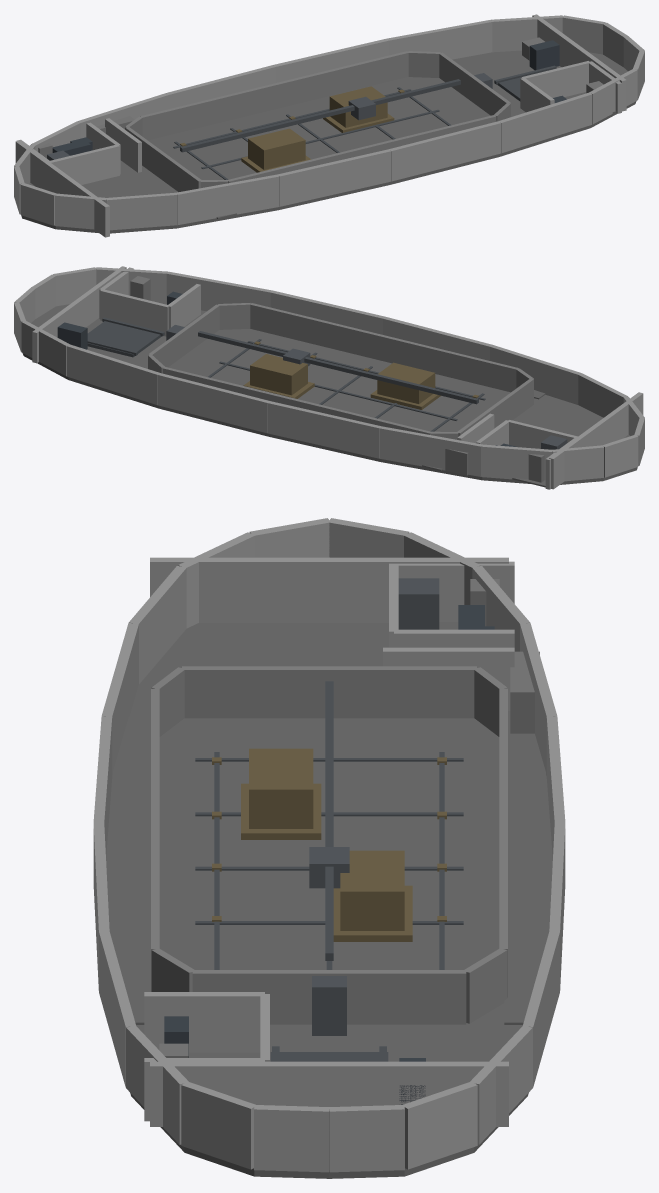
The model's file is STW-T01_Deck2_CARGO_OPS_1to1.obj.
3 renders of one model, top to bottom at view 1: azimuth 30°, elevation 25°; view 2: azimuth 150°, elevation 25°; view 3: azimuth 270°, elevation 25°, orthographic. The views are drawn at different scales.
Visible parts, largest first — view 1: ROOM_01_MAIN_CARGO_HOLD_Floor, ROOM_01_MAIN_CARGO_HOLD_Wall_01, STRUCTURE_Deck2Slab, STRUCTURE_OuterBulkhead_15, STRUCTURE_OuterBulkhead_14, STRUCTURE_OuterBulkhead_16, STRUCTURE_OuterBulkhead_13, ROOM_01_MAIN_CARGO_HOLD_Crate, STRUCTURE_OuterBulkhead_06, STRUCTURE_OuterBulkhead_17, STRUCTURE_ForwardPressureBulkhead, ROOM_01_MAIN_CARGO_HOLD_Wall_05 (+29 smaller); view 2: ROOM_01_MAIN_CARGO_HOLD_Floor, ROOM_01_MAIN_CARGO_HOLD_Wall_05, STRUCTURE_Deck2Slab, STRUCTURE_OuterBulkhead_04, STRUCTURE_OuterBulkhead_05, ROOM_01_MAIN_CARGO_HOLD_Crate, STRUCTURE_OuterBulkhead_06, STRUCTURE_OuterBulkhead_03, STRUCTURE_OuterBulkhead_16, STRUCTURE_OuterBulkhead_13, ROOM_01_MAIN_CARGO_HOLD_Wall_01, STRUCTURE_OuterBulkhead_14 (+31 smaller); view 3: ROOM_01_MAIN_CARGO_HOLD_Floor, STRUCTURE_Deck2Slab, STRUCTURE_ServiceLane, ROOM_01_MAIN_CARGO_HOLD_Wall_07, STRUCTURE_ForwardPressureBulkhead, STRUCTURE_AftPressureBulkhead, ROOM_01_MAIN_CARGO_HOLD_Wall_03, ROOM_01_MAIN_CARGO_HOLD_Crate, ROOM_03_STARBOARD_AIRLOCK_Forward, ROOM_01_MAIN_CARGO_HOLD_FloorRail, STRUCTURE_OuterBulkhead_10, STRUCTURE_OuterBulkhead_09 (+34 smaller).
Part boxes in pixels (bbox=[...]): ROOM_01_MAIN_CARGO_HOLD_Floor: bbox=[148, 77, 490, 179]; ROOM_01_MAIN_CARGO_HOLD_Wall_01: bbox=[140, 51, 408, 140]; STRUCTURE_Deck2Slab: bbox=[21, 50, 636, 233]; STRUCTURE_OuterBulkhead_15: bbox=[278, 149, 390, 206]; STRUCTURE_OuterBulkhead_14: bbox=[389, 121, 501, 181]; STRUCTURE_OuterBulkhead_16: bbox=[176, 174, 279, 224]; STRUCTURE_OuterBulkhead_13: bbox=[499, 92, 592, 153]; ROOM_01_MAIN_CARGO_HOLD_Crate: bbox=[248, 86, 387, 169]; STRUCTURE_OuterBulkhead_06: bbox=[386, 20, 492, 59]; STRUCTURE_OuterBulkhead_17: bbox=[106, 192, 177, 230]; STRUCTURE_ForwardPressureBulkhead: bbox=[15, 140, 109, 237]; ROOM_01_MAIN_CARGO_HOLD_Wall_05: bbox=[227, 115, 496, 183]; ROOM_01_MAIN_CARGO_HOLD_Floor: bbox=[168, 329, 510, 431]; ROOM_01_MAIN_CARGO_HOLD_Wall_05: bbox=[250, 303, 518, 392]; STRUCTURE_Deck2Slab: bbox=[22, 304, 637, 484]; STRUCTURE_OuterBulkhead_04: bbox=[268, 401, 380, 458]; STRUCTURE_OuterBulkhead_05: bbox=[157, 373, 270, 433]; ROOM_01_MAIN_CARGO_HOLD_Crate: bbox=[250, 354, 435, 403]; STRUCTURE_OuterBulkhead_06: bbox=[66, 344, 159, 404]; STRUCTURE_OuterBulkhead_03: bbox=[379, 426, 482, 476]; STRUCTURE_OuterBulkhead_16: bbox=[490, 345, 581, 404]; STRUCTURE_OuterBulkhead_13: bbox=[166, 271, 272, 311]; ROOM_01_MAIN_CARGO_HOLD_Wall_01: bbox=[162, 367, 430, 434]; STRUCTURE_OuterBulkhead_14: bbox=[270, 290, 385, 334]; ROOM_01_MAIN_CARGO_HOLD_Floor: bbox=[159, 718, 499, 969]; STRUCTURE_Deck2Slab: bbox=[106, 623, 552, 1178]; STRUCTURE_ServiceLane: bbox=[113, 716, 545, 1024]; ROOM_01_MAIN_CARGO_HOLD_Wall_07: bbox=[182, 666, 476, 718]; STRUCTURE_ForwardPressureBulkhead: bbox=[150, 557, 508, 622]; STRUCTURE_AftPressureBulkhead: bbox=[150, 1061, 508, 1126]; ROOM_01_MAIN_CARGO_HOLD_Wall_03: bbox=[192, 970, 466, 1024]; ROOM_01_MAIN_CARGO_HOLD_Crate: bbox=[249, 748, 404, 930]; ROOM_03_STARBOARD_AIRLOCK_Forward: bbox=[144, 992, 264, 1052]; ROOM_01_MAIN_CARGO_HOLD_FloorRail: bbox=[195, 752, 463, 969]; STRUCTURE_OuterBulkhead_10: bbox=[254, 1105, 329, 1172]; STRUCTURE_OuterBulkhead_09: bbox=[329, 1105, 404, 1172].
Bounding box in the file's own units: 26.19 × 1.43 × 8.8.
